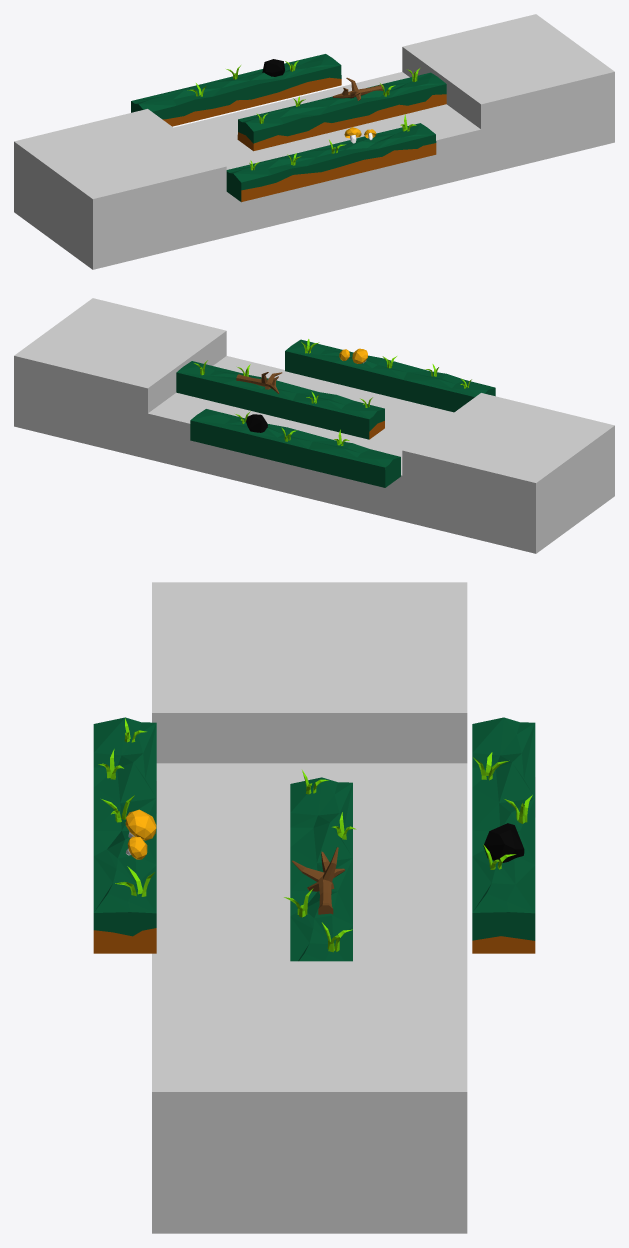
File: VHard_Obstacle_Forest_9 1.fbx
3 views of the same model, one above another, from view 1: azimuth 30°, elevation 25°; view 2: azimuth 150°, elevation 25°; view 3: azimuth 270°, elevation 25° (orthographic). The views are drawn at different scales.
Parts seen in each view (by area): view 1: Cube, Icosphere.001; view 2: Cube, Icosphere.001; view 3: Cube, Icosphere.001.
Part boxes in pixels (left/top/right/bottom): Cube: left=14, top=14, right=614, bottom=269; Icosphere.001: left=131, top=54, right=446, bottom=202; Cube: left=14, top=298, right=614, bottom=553; Icosphere.001: left=176, top=339, right=495, bottom=487; Cube: left=152, top=582, right=467, bottom=1233; Icosphere.001: left=93, top=717, right=535, bottom=961.
Size of the model in its own units: 10231 by 1592 by 3746.
